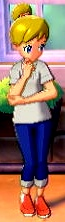woman_egg: (8, 3, 57, 219)
